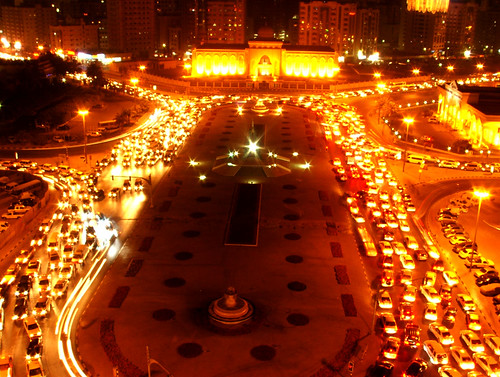building: (192, 44, 342, 85), (433, 83, 500, 147), (299, 1, 378, 55), (188, 1, 248, 51), (104, 1, 157, 47), (45, 19, 94, 47)
street: (13, 100, 200, 354), (316, 96, 482, 368)
